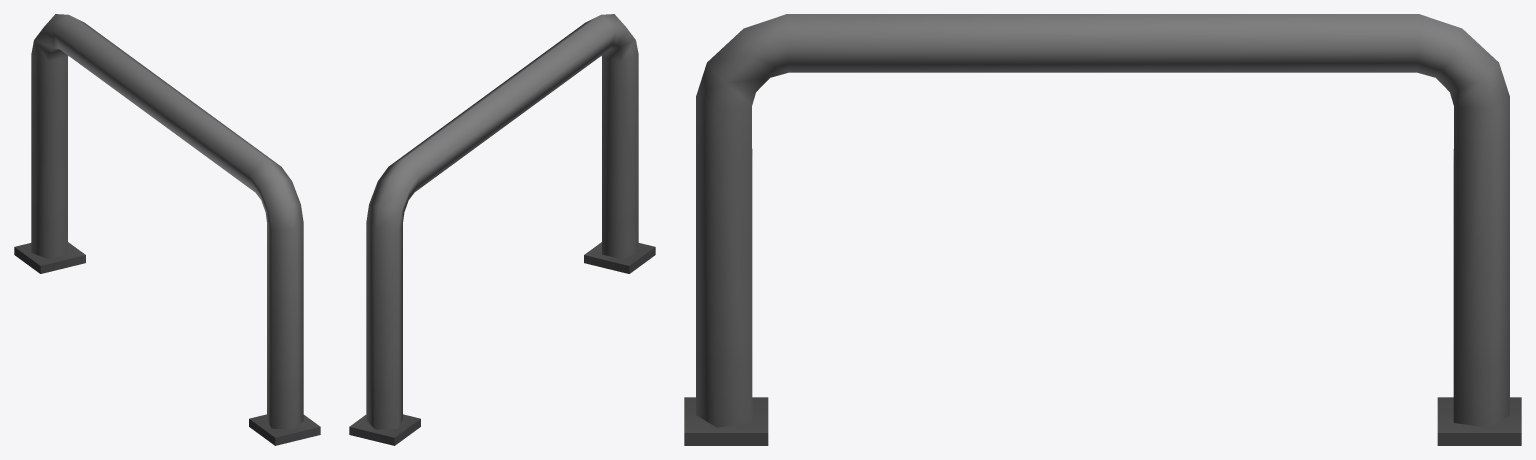
File: Bollards_1_D.fbx
3 views of the same model, side by side, from view 1: azimuth 30°, elevation 25°; view 2: azimuth 150°, elevation 25°; view 3: azimuth 270°, elevation 25° (orthographic). The views are drawn at different scales.
Visible parts, largest first — view 1: Bollards_1_D; view 2: Bollards_1_D; view 3: Bollards_1_D.
Part boxes in pixels (box(x1,y1,x2,y2)): Bollards_1_D: box(14, 14, 320, 445); Bollards_1_D: box(349, 14, 655, 445); Bollards_1_D: box(684, 14, 1521, 445).
Size of the model in its own units: 15.3 by 83.2 by 152.
